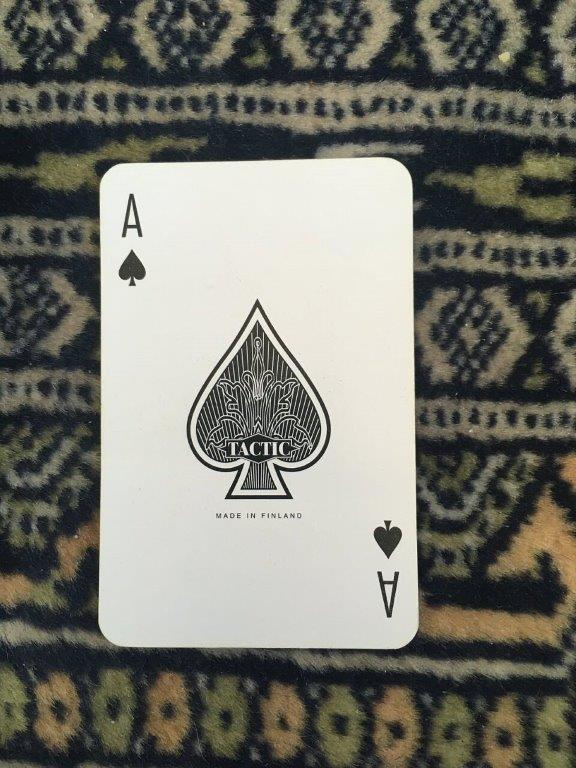AS: (96, 154, 422, 651)
